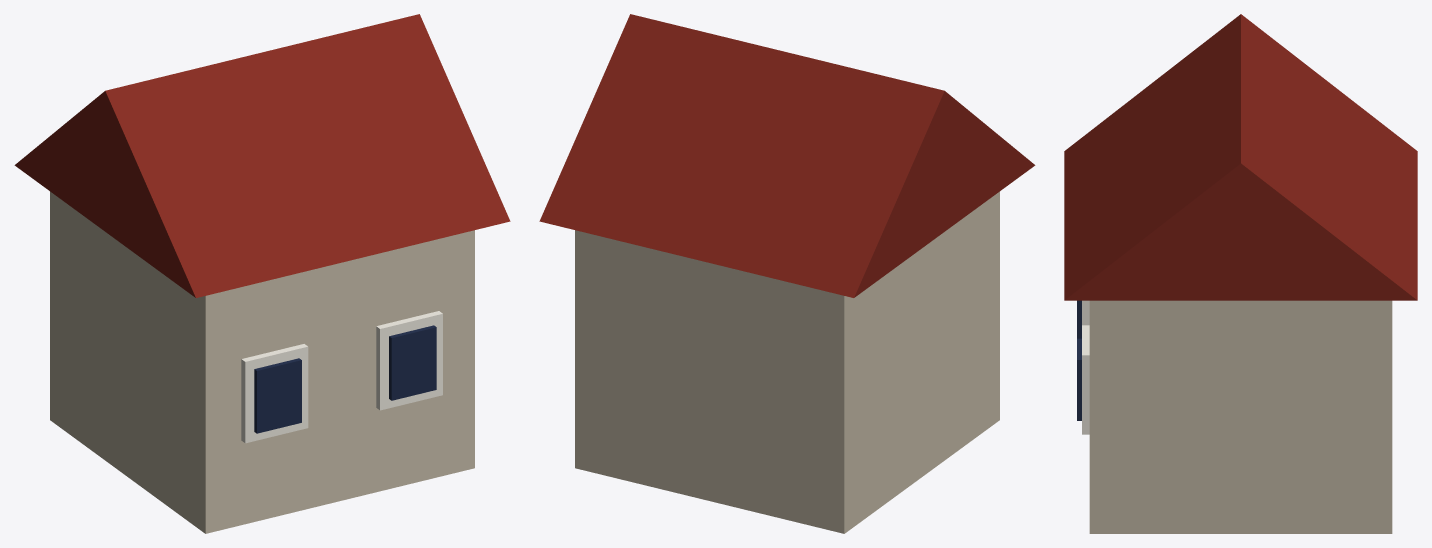
Rendered from dom_fr_0.glb.
3 views of the same model, side by side, from view 1: azimuth 30°, elevation 25°; view 2: azimuth 150°, elevation 25°; view 3: azimuth 270°, elevation 25° (orthographic). The views are drawn at different scales.
Visible parts, largest first — view 1: dom_fr_0; view 2: dom_fr_0; view 3: dom_fr_0.
Boxes of the visible parts, x1,y1,x2,y2 form: dom_fr_0: [14, 14, 510, 533]; dom_fr_0: [539, 14, 1035, 533]; dom_fr_0: [1064, 14, 1417, 533].
Size of the model in its own units: 2.1 by 2.5 by 2.1.
